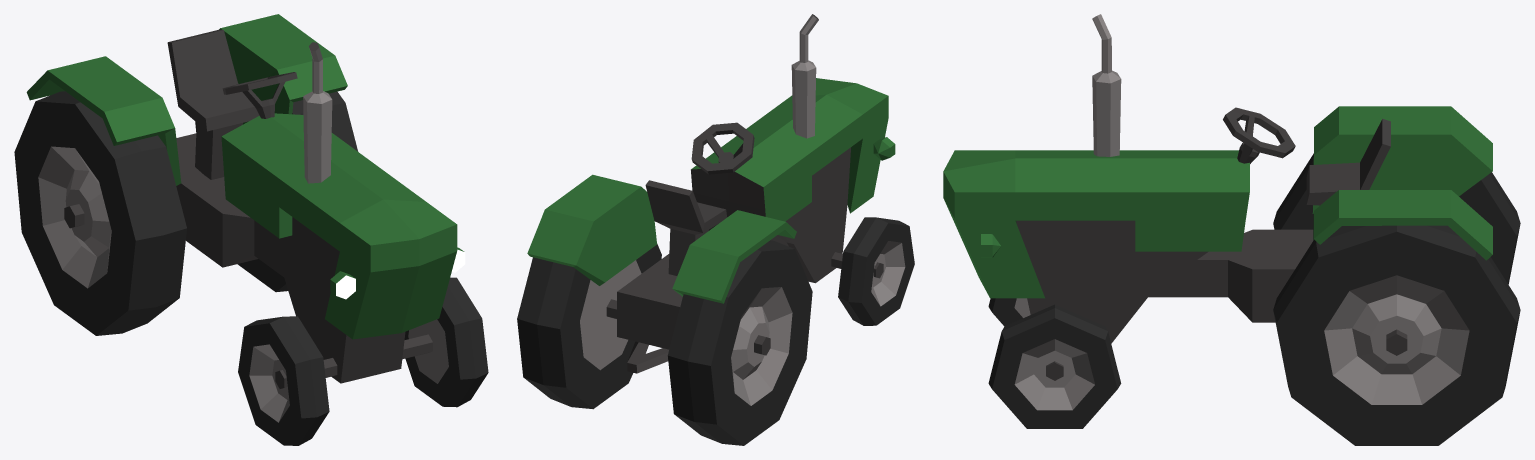
Rendered from tractor.glb.
3 renders of one model, left to right at view 1: azimuth 30°, elevation 25°; view 2: azimuth 150°, elevation 25°; view 3: azimuth 270°, elevation 25°, orthographic. The views are drawn at different scales.
Parts seen in each view (by area): view 1: tractor-base, tractor-wheel_BR, tractor-wheel, tractor-wheel_FL, tractor-wheel_BL; view 2: tractor-base, tractor-wheel_BR, tractor-wheel_BL, tractor-wheel; view 3: tractor-base, tractor-wheel_BL, tractor-wheel_FL, tractor-wheel_BR, tractor-wheel.
Part boxes in pixels (x1,y1,x2,y2): tractor-base: (26, 14, 465, 388); tractor-wheel_BR: (14, 91, 186, 335); tractor-wheel: (238, 316, 329, 445); tractor-wheel_FL: (404, 277, 488, 407); tractor-wheel_BL: (195, 91, 358, 292); tractor-base: (527, 14, 895, 373); tractor-wheel_BR: (667, 240, 812, 445); tractor-wheel_BL: (517, 243, 661, 409); tractor-wheel: (838, 217, 914, 325); tractor-base: (943, 14, 1492, 380); tractor-wheel_BL: (1273, 225, 1520, 445); tractor-wheel_FL: (988, 304, 1121, 428); tractor-wheel_BR: (1273, 153, 1520, 284); tractor-wheel: (988, 298, 1030, 326).
Bounding box in the file's own units: 1.62 × 2.37 × 3.38.
Materials: 1 (1 with a texture image).
